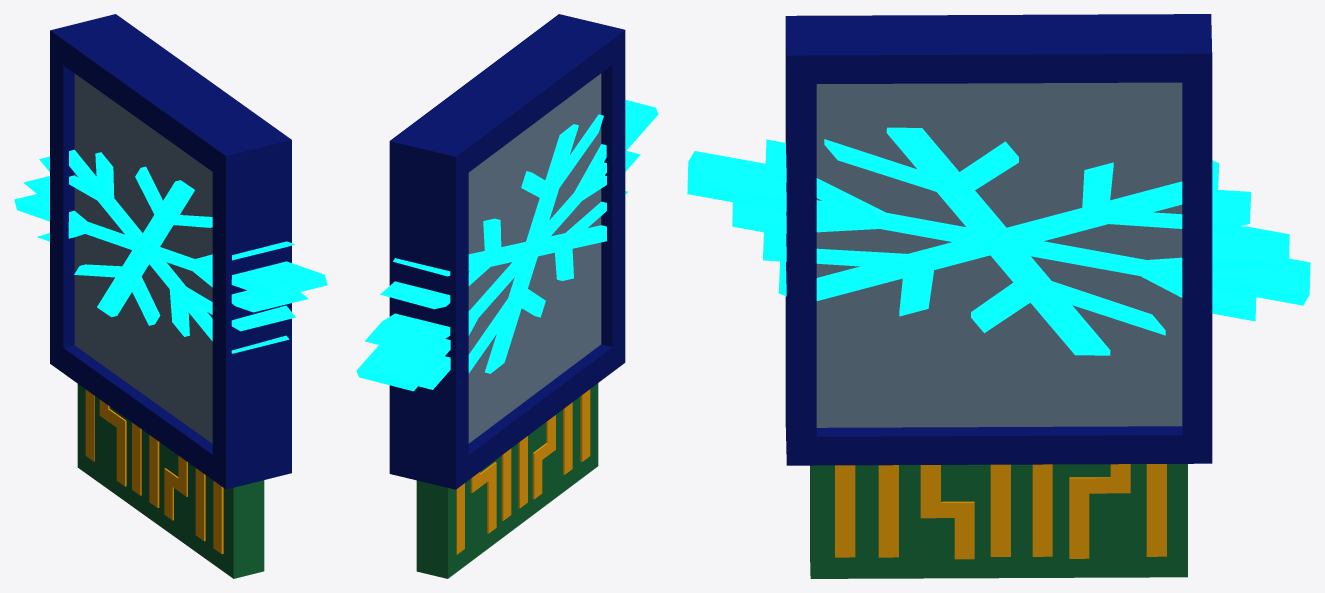
Rendered from icePowerup.fbx.
3 views of the same model, side by side, from view 1: azimuth 30°, elevation 25°; view 2: azimuth 150°, elevation 25°; view 3: azimuth 270°, elevation 25° (orthographic). The views are drawn at different scales.
Parts seen in each view (by area): view 1: Cube, fiocco, Cube.001, Cube.002, Cube.008, Cube.005, Cube.004, Cube.003, Cube.009; view 2: Cube, fiocco, Cube.001, Cube.002, Cube.008, Cube.003, Cube.005, Cube.004, Cube.009; view 3: Cube, fiocco, Cube.001, Cube.002, Cube.005, Cube.009, Cube.003, Cube.004, Cube.008.
Boxes of the visible parts, x1,y1,x2,y2 form: Cube: (50, 14, 291, 578); fiocco: (14, 149, 327, 353); Cube.001: (99, 399, 126, 486); Cube.002: (164, 455, 187, 520); Cube.008: (213, 481, 223, 553); Cube.005: (195, 468, 205, 541); Cube.004: (149, 435, 159, 507); Cube.003: (132, 422, 141, 495); Cube.009: (85, 389, 94, 461); Cube: (389, 14, 625, 578); fiocco: (356, 100, 658, 391); Cube.001: (470, 462, 496, 533); Cube.002: (532, 415, 555, 499); Cube.008: (580, 389, 590, 461); Cube.003: (501, 448, 511, 520); Cube.005: (563, 402, 572, 474); Cube.004: (518, 436, 527, 508); Cube.009: (456, 483, 464, 554); Cube: (785, 14, 1212, 578); fiocco: (687, 127, 1310, 355); Cube.001: (1069, 464, 1130, 558); Cube.002: (920, 465, 974, 559); Cube.005: (878, 465, 898, 557); Cube.009: (1146, 464, 1166, 556); Cube.003: (1032, 464, 1052, 556); Cube.004: (990, 464, 1010, 556); Cube.008: (835, 465, 855, 557).
Bounding box in the file's own units: 52.16 × 312 × 330.
